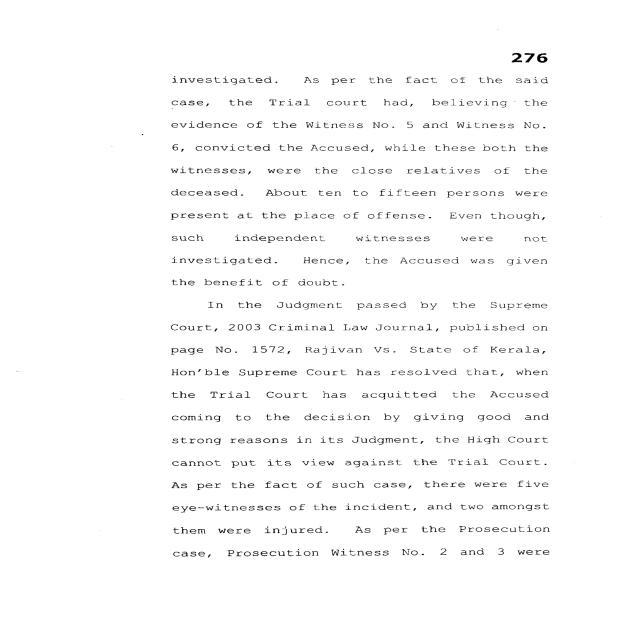page-number: (433, 5, 634, 70)
